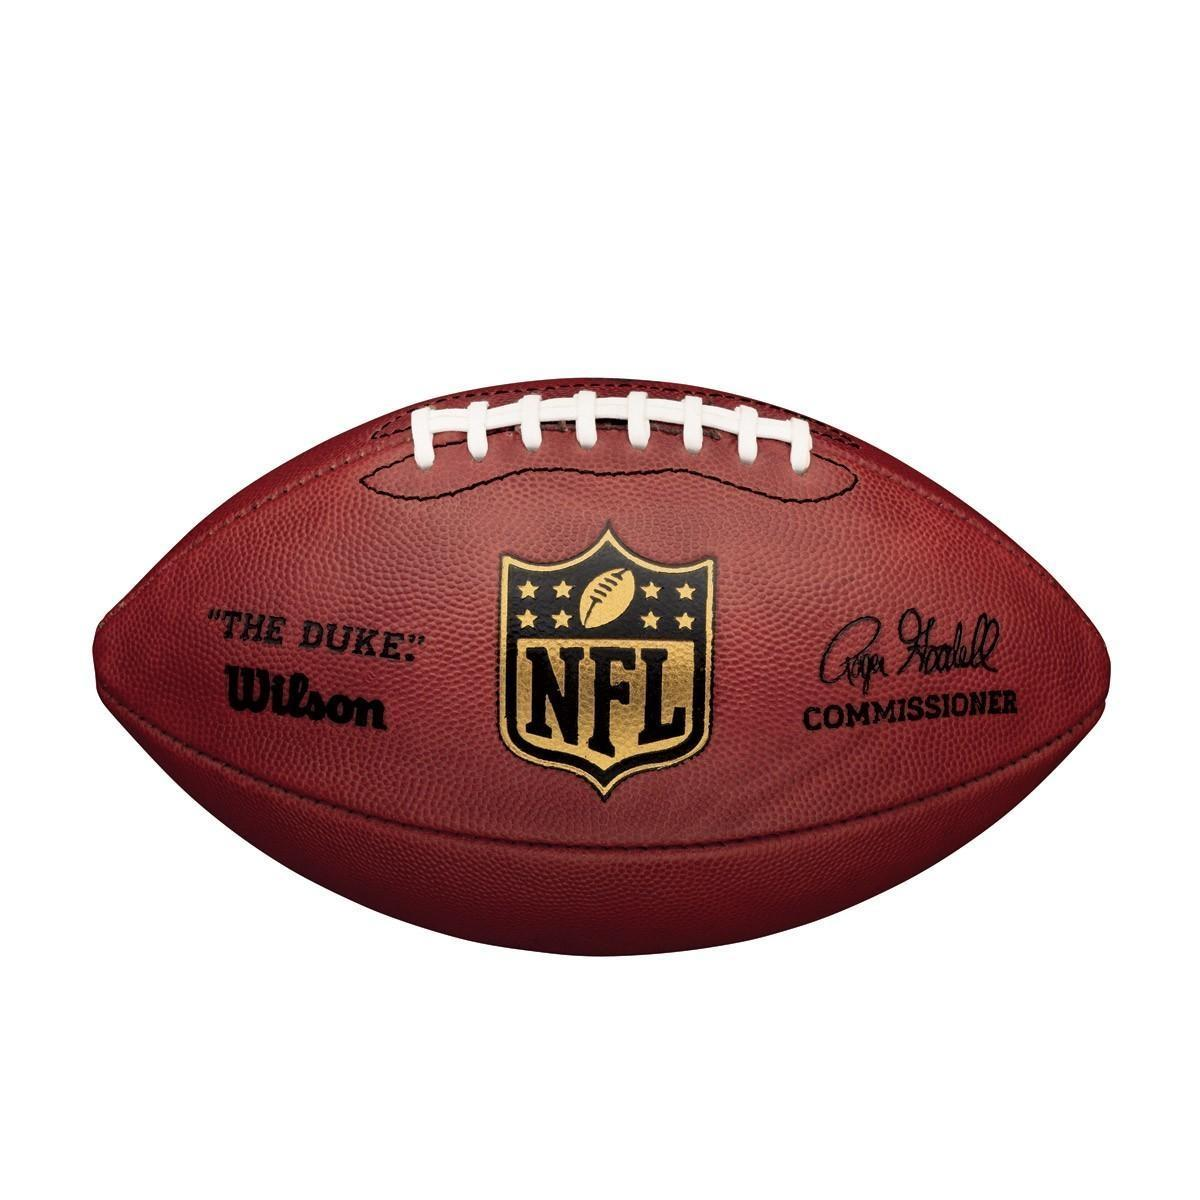Sports-Ball: (93, 380, 1109, 954)
